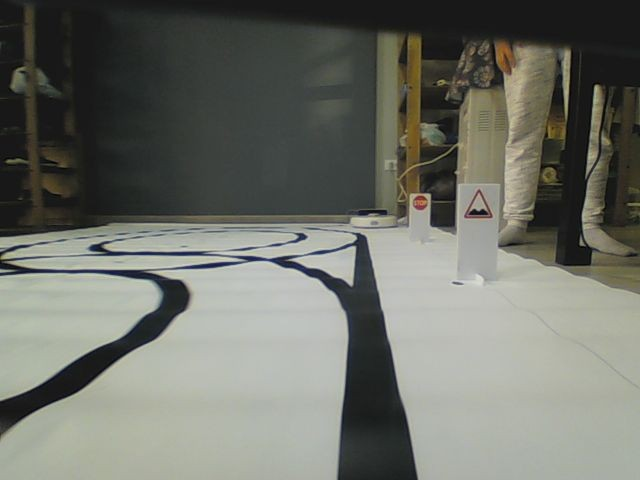Nerov: (462, 188, 493, 220)
